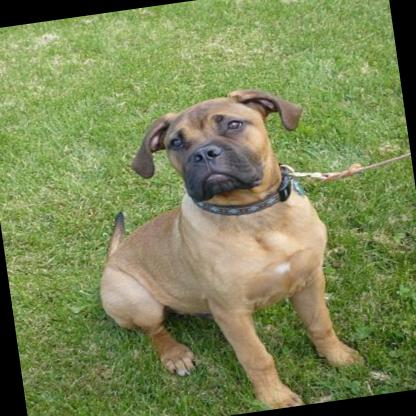bull_mastiff: (64, 69, 373, 416)
